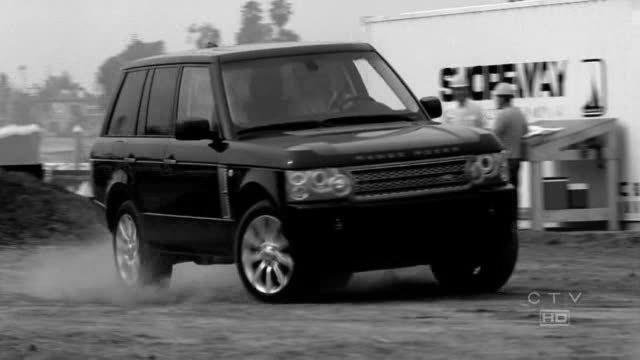car: (85, 40, 523, 310)
